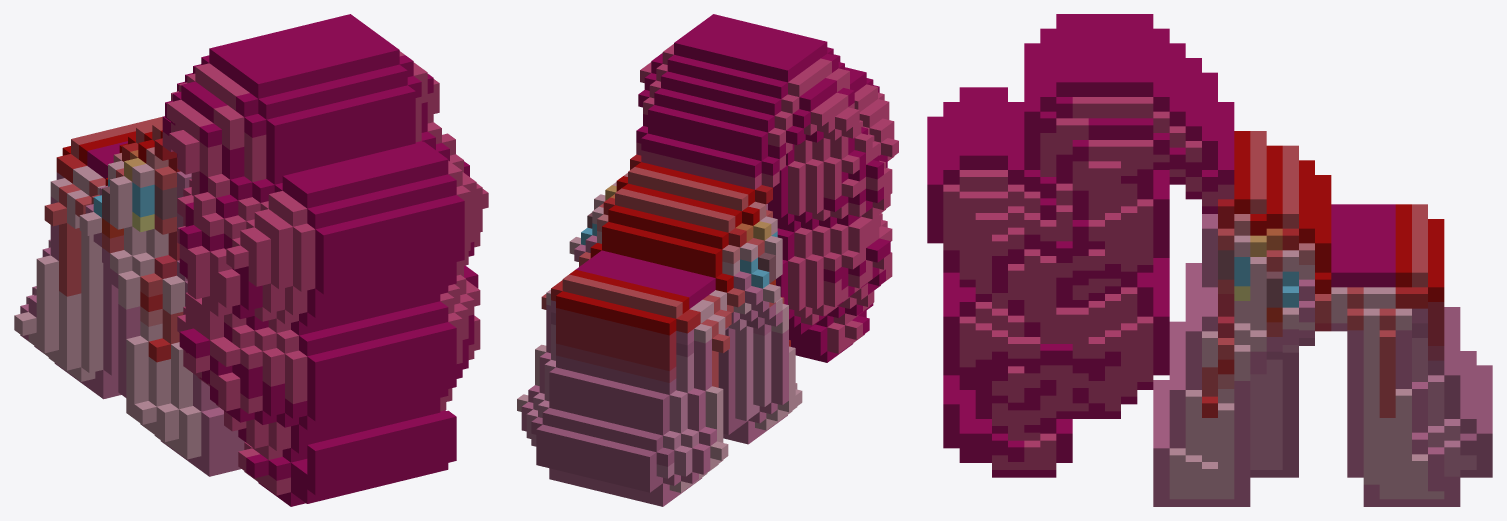
Rendered from Luna0CinemaPinkieBase3D.glb.
The picture shows the model from 3 angles, left to right: view 1: azimuth 30°, elevation 25°; view 2: azimuth 150°, elevation 25°; view 3: azimuth 270°, elevation 25°; orthographic projection. The views are drawn at different scales.
Parts seen in each view (by area): view 1: Luna0CinemaPinkieBase3D; view 2: Luna0CinemaPinkieBase3D; view 3: Luna0CinemaPinkieBase3D.
Boxes of the visible parts, x1,y1,x2,y2 form: Luna0CinemaPinkieBase3D: (14, 14, 488, 506); Luna0CinemaPinkieBase3D: (517, 14, 898, 506); Luna0CinemaPinkieBase3D: (927, 14, 1492, 506).
Size of the model in its own units: 0.2 by 0.29 by 0.35.
